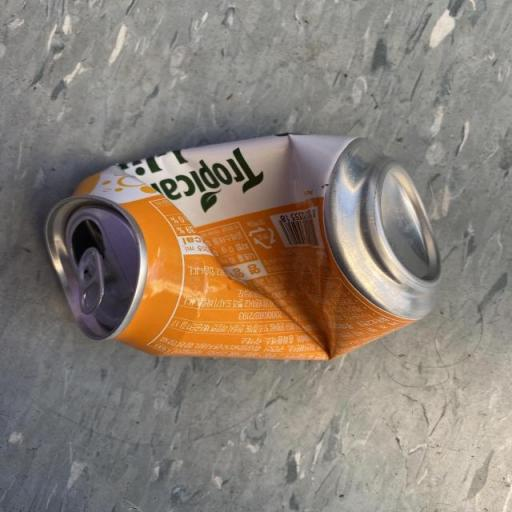metal: (20, 114, 487, 404)
